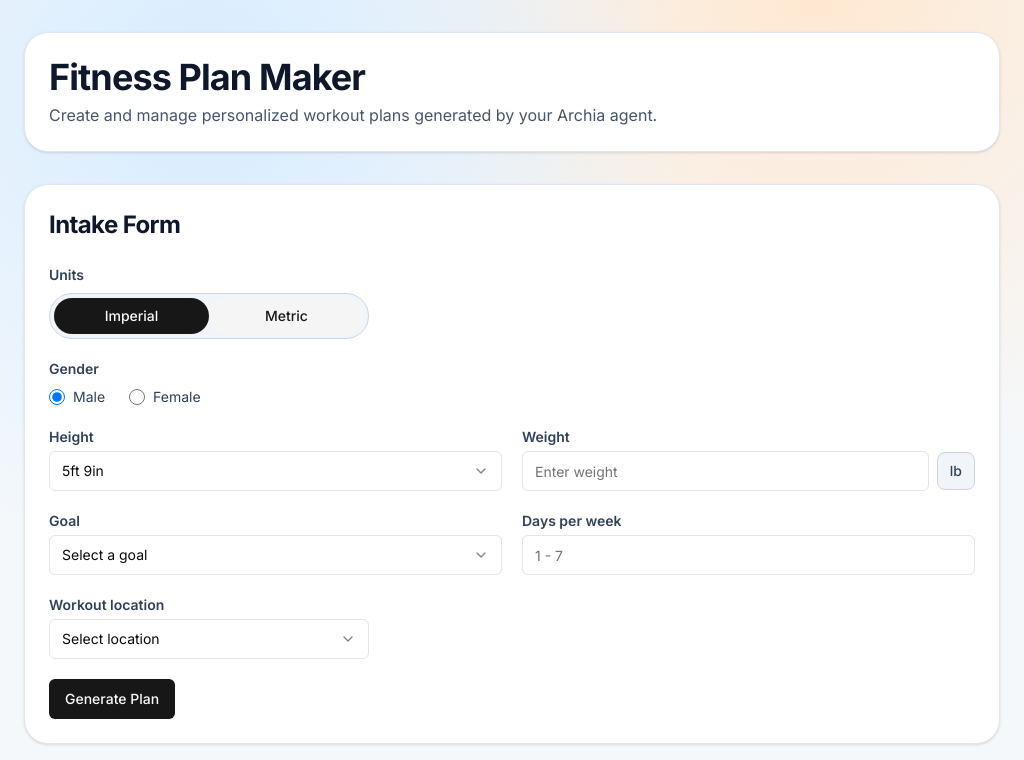
Test: App › generate creates a plan and renders it
Type "180" into the field labelled "Weight".
click(725, 471); type("180")  # box x1=522 y1=451 x2=929 y2=491
Click the dropdown labelled "Select a goal".
click(105, 554)  # box x1=49 y1=535 x2=502 y2=575
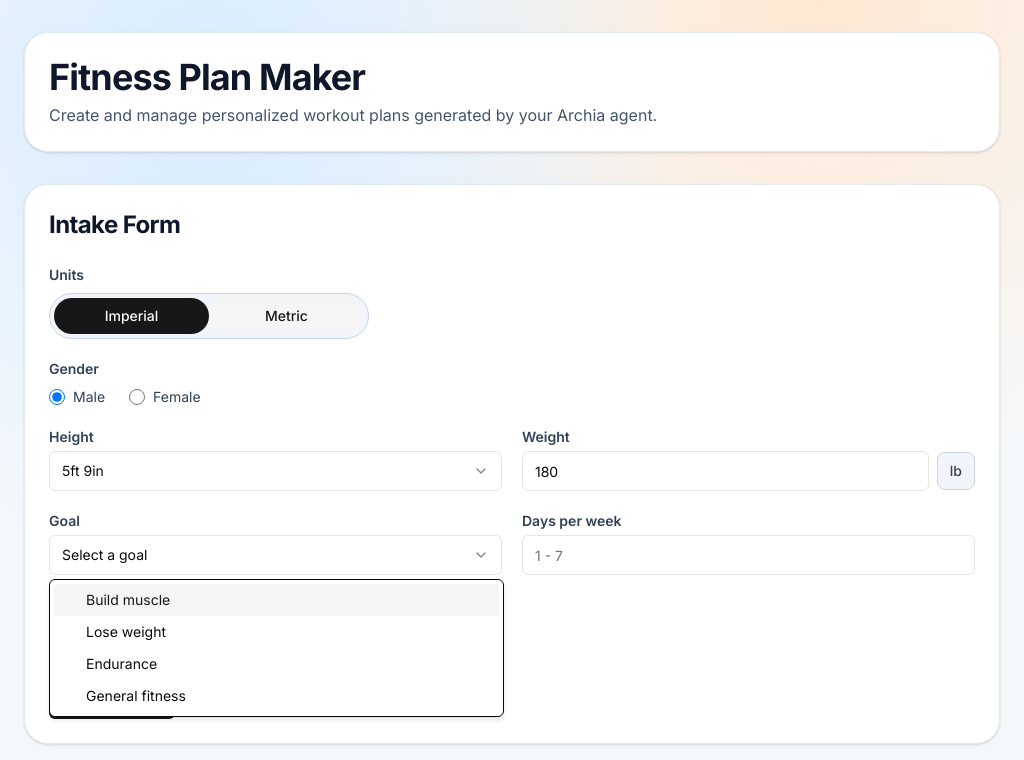
Click the option "Build muscle".
click(128, 600)  # box x1=54 y1=584 x2=499 y2=616
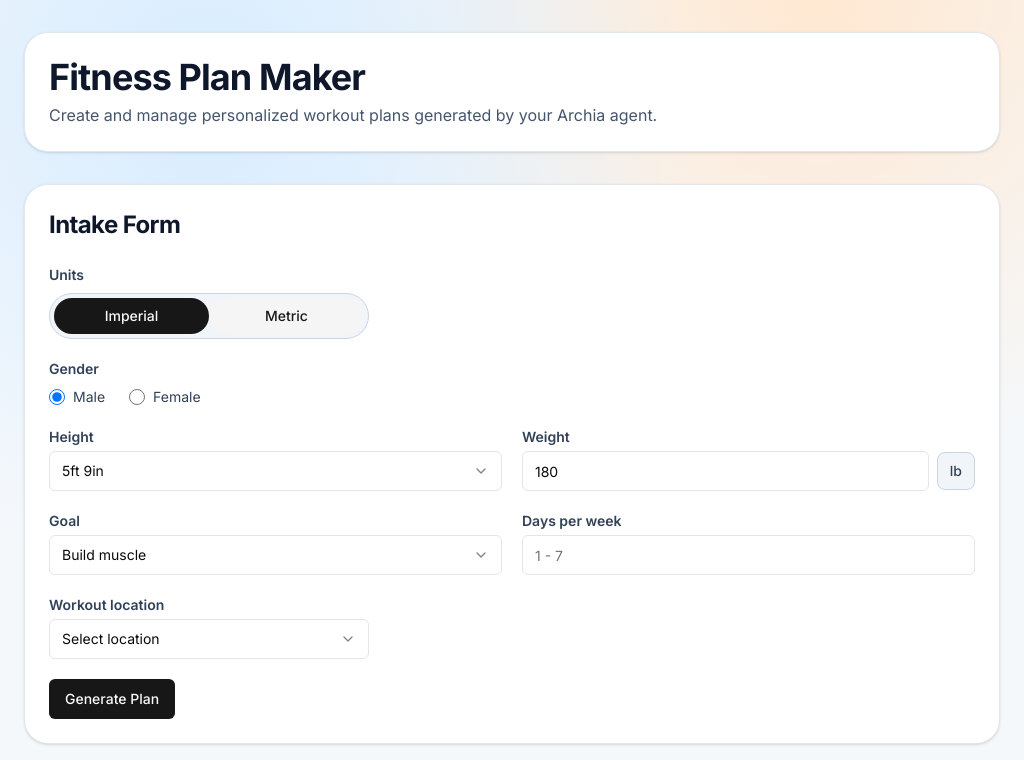
Type "3" into the number field labelled "Days per week".
click(748, 555); type("3")  # box x1=522 y1=535 x2=975 y2=575
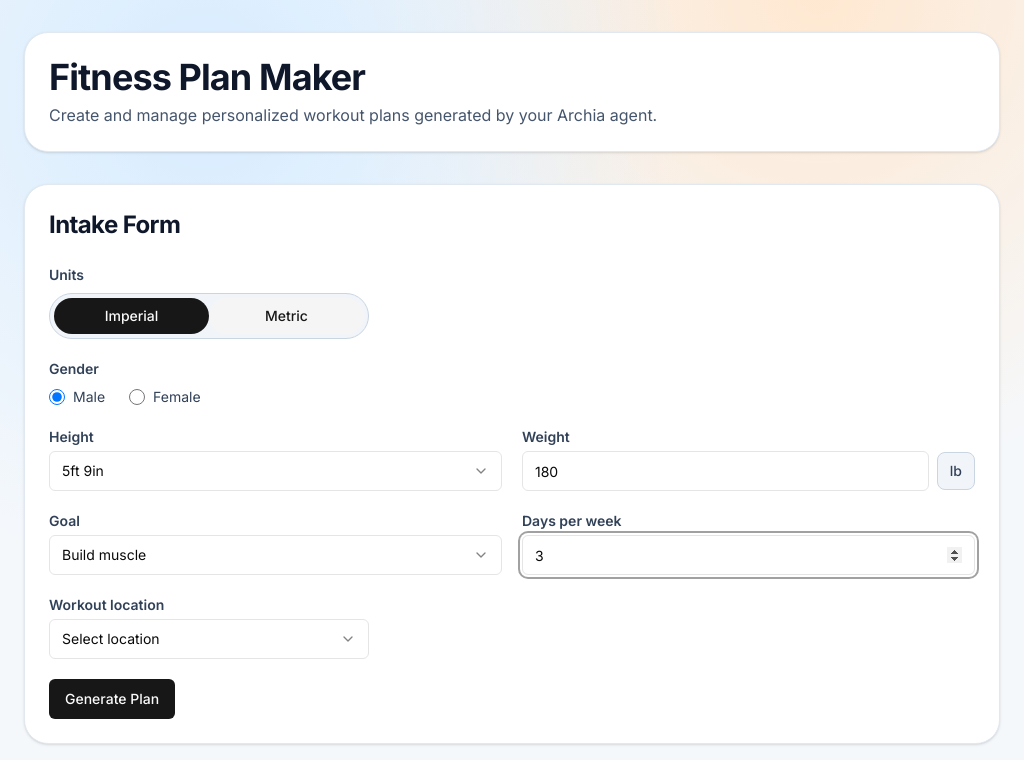
Click the dropdown named "workout location".
click(111, 638)  # box x1=49 y1=619 x2=369 y2=659
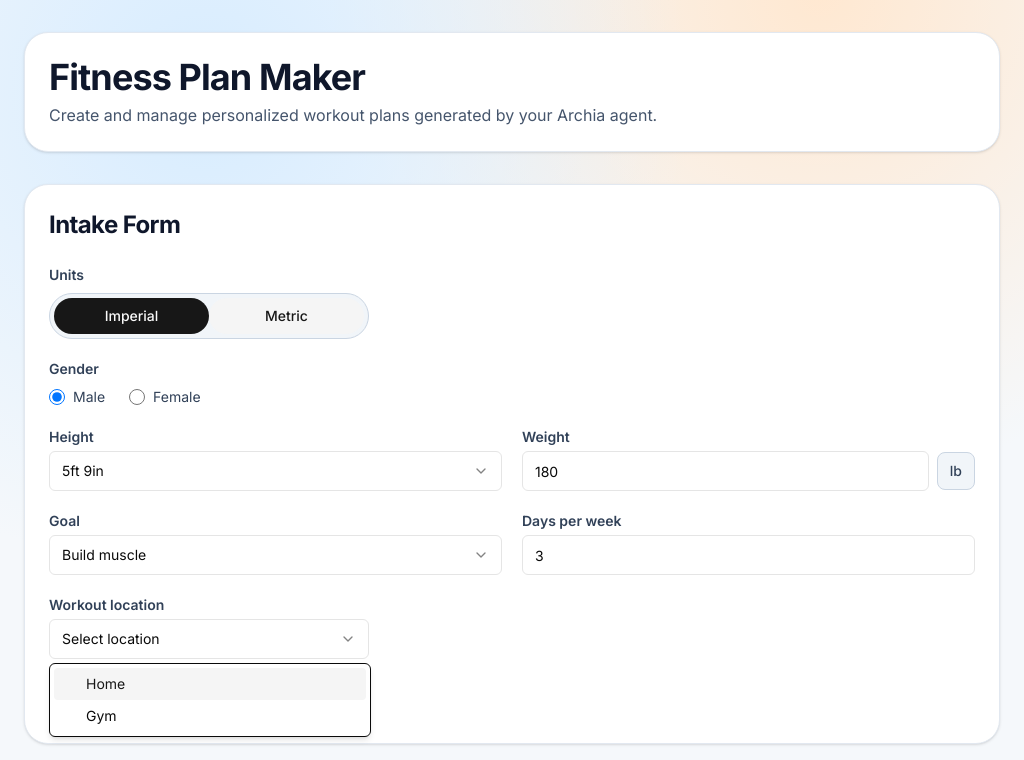
Click the option "Home".
click(106, 684)  # box x1=54 y1=668 x2=366 y2=700
(page scrolled)
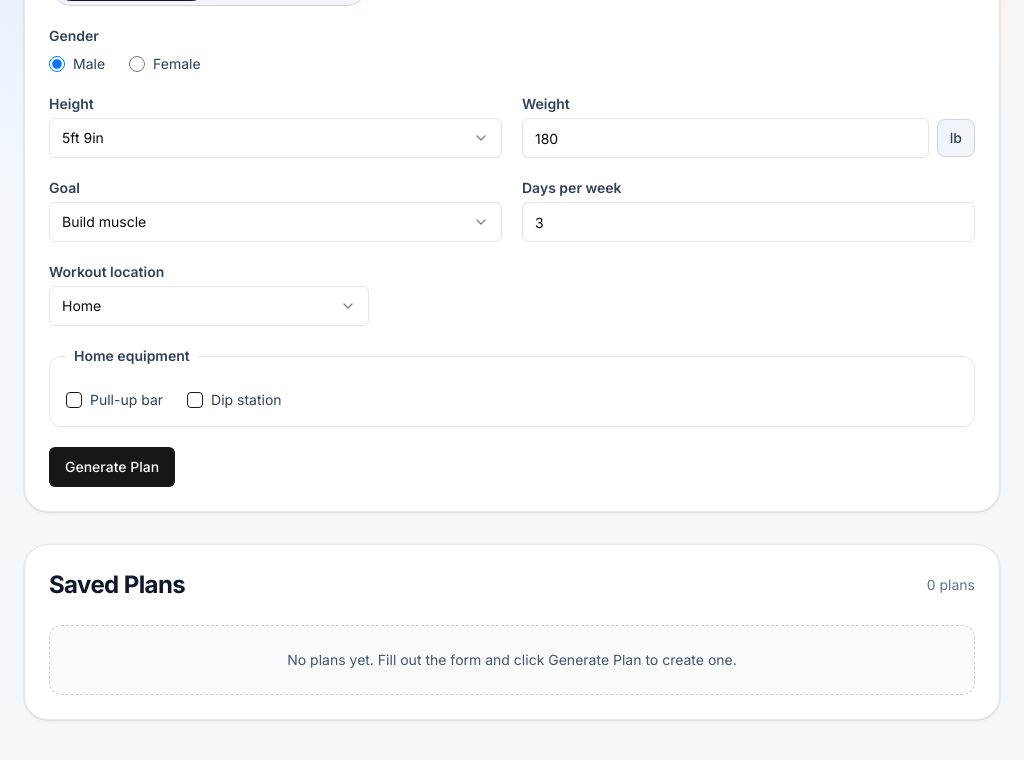
Click the button "Generate Plan".
click(112, 467)  # box x1=49 y1=447 x2=175 y2=487
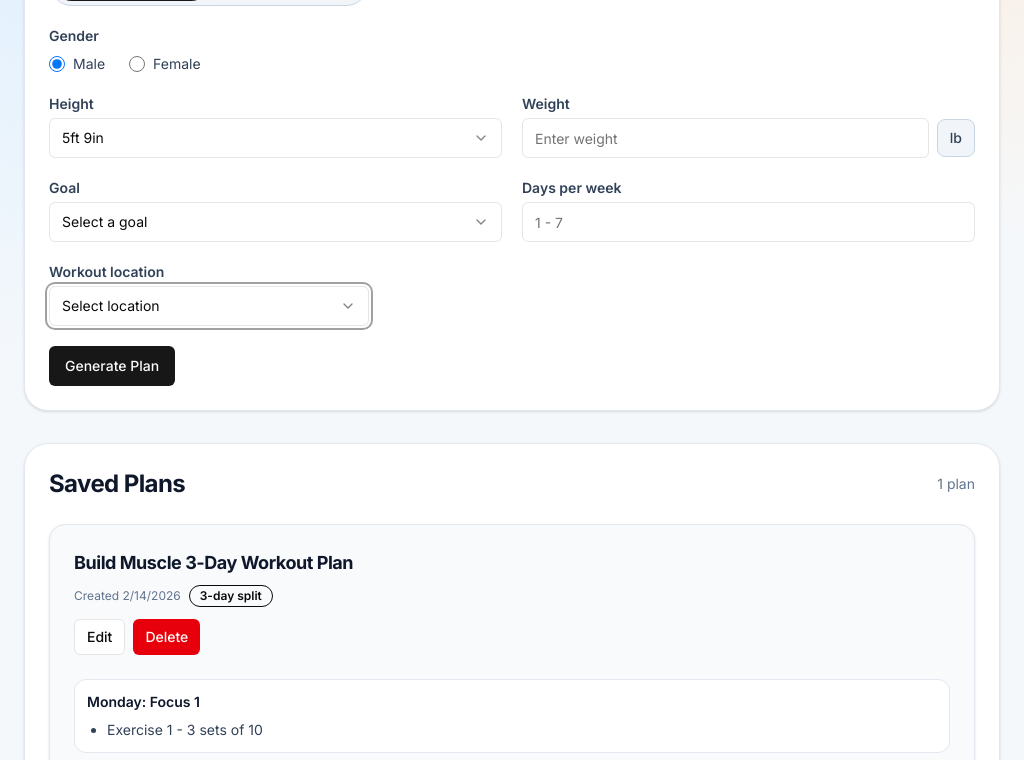
Now the heading "Build Muscle 3-Day Workout Plan" is shown, box x1=74 y1=549 x2=353 y2=577
Now the heading "Monday: Focus 1" is shown, box x1=87 y1=693 x2=200 y2=710
